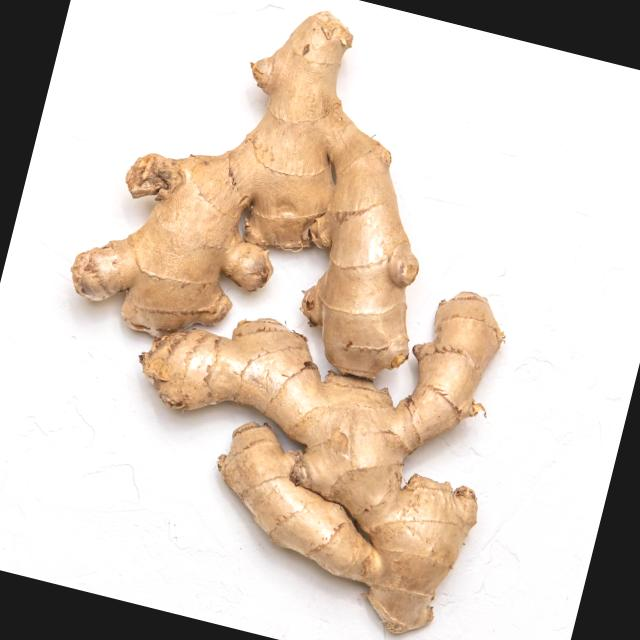ginger-root: (80, 269, 520, 640), (41, 0, 439, 379)
